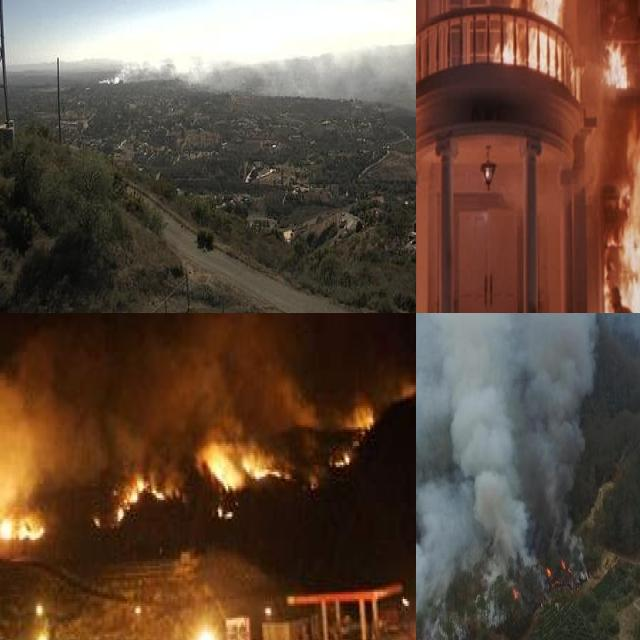fire: (473, 0, 640, 313), (473, 490, 597, 640), (194, 432, 289, 488), (0, 488, 47, 563), (111, 474, 177, 519), (343, 399, 377, 432)
smoke: (0, 313, 319, 514), (416, 313, 602, 635), (96, 31, 416, 101)
